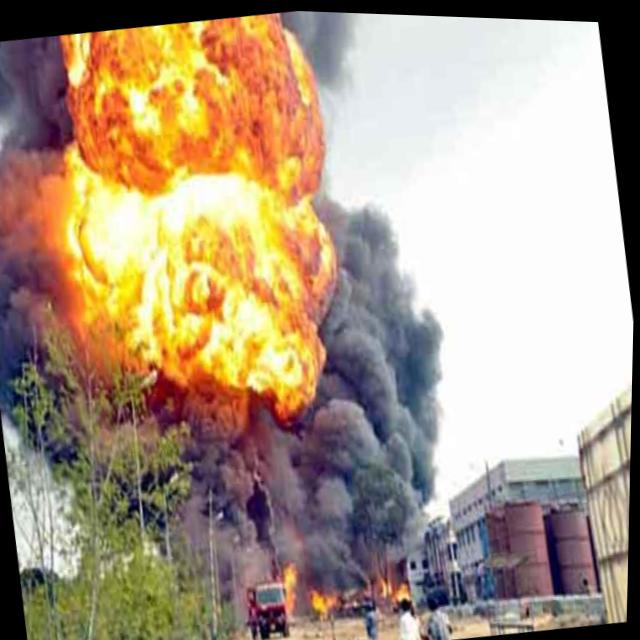fire: (28, 1, 374, 469)
